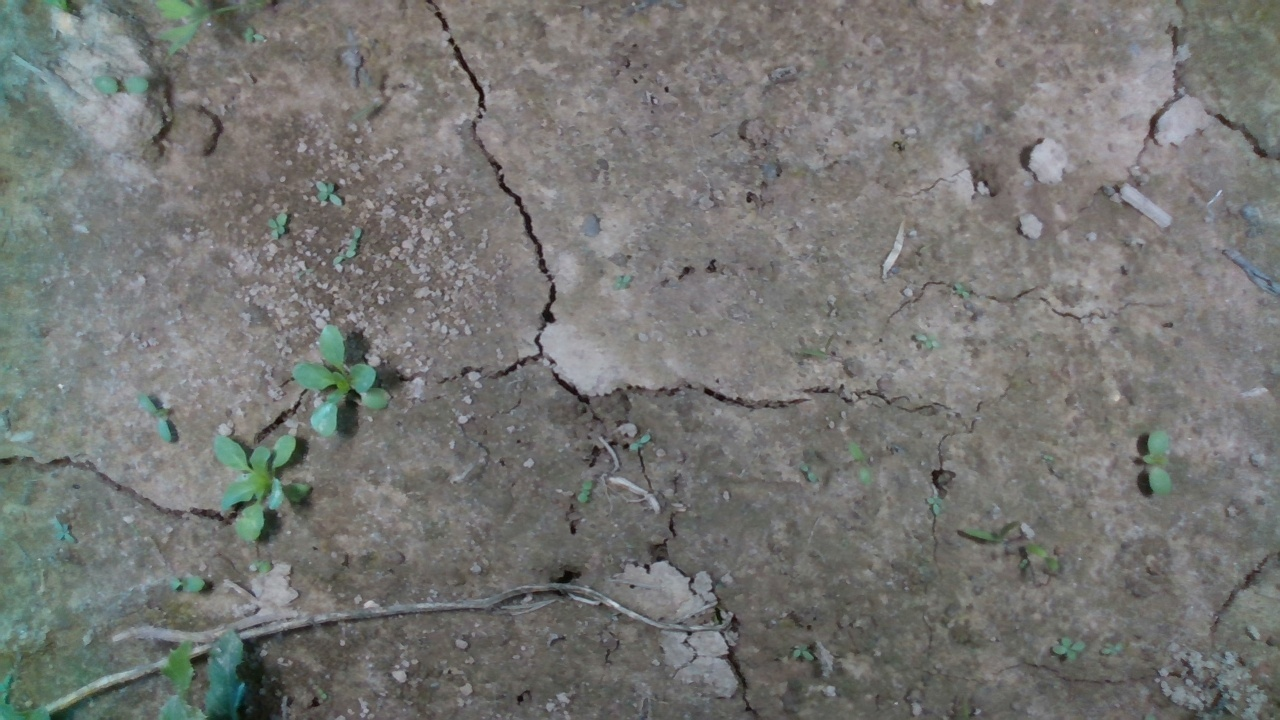weed: (1133, 421, 1190, 502), (135, 385, 184, 454), (1048, 629, 1097, 672), (333, 222, 373, 274), (309, 174, 348, 216), (844, 439, 875, 487), (620, 424, 658, 462), (170, 565, 209, 598), (264, 205, 293, 249), (90, 76, 153, 95), (607, 266, 645, 295), (576, 476, 596, 503), (925, 497, 944, 515)
